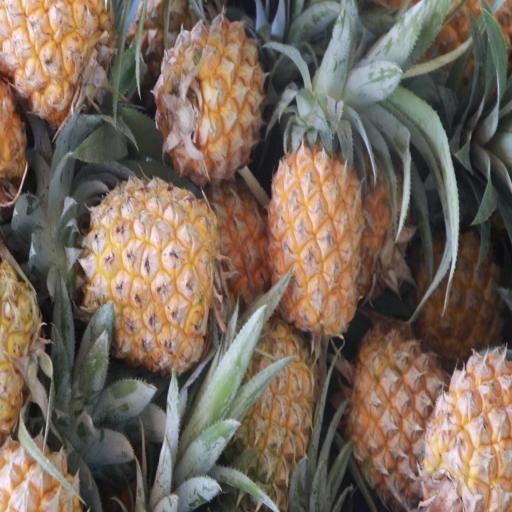------------------------------: (349, 334, 449, 511)
Pineapple - v8 v1: (88, 178, 216, 368), (267, 138, 363, 334), (157, 21, 259, 179), (0, 0, 112, 121), (230, 322, 315, 479), (421, 230, 507, 350)
